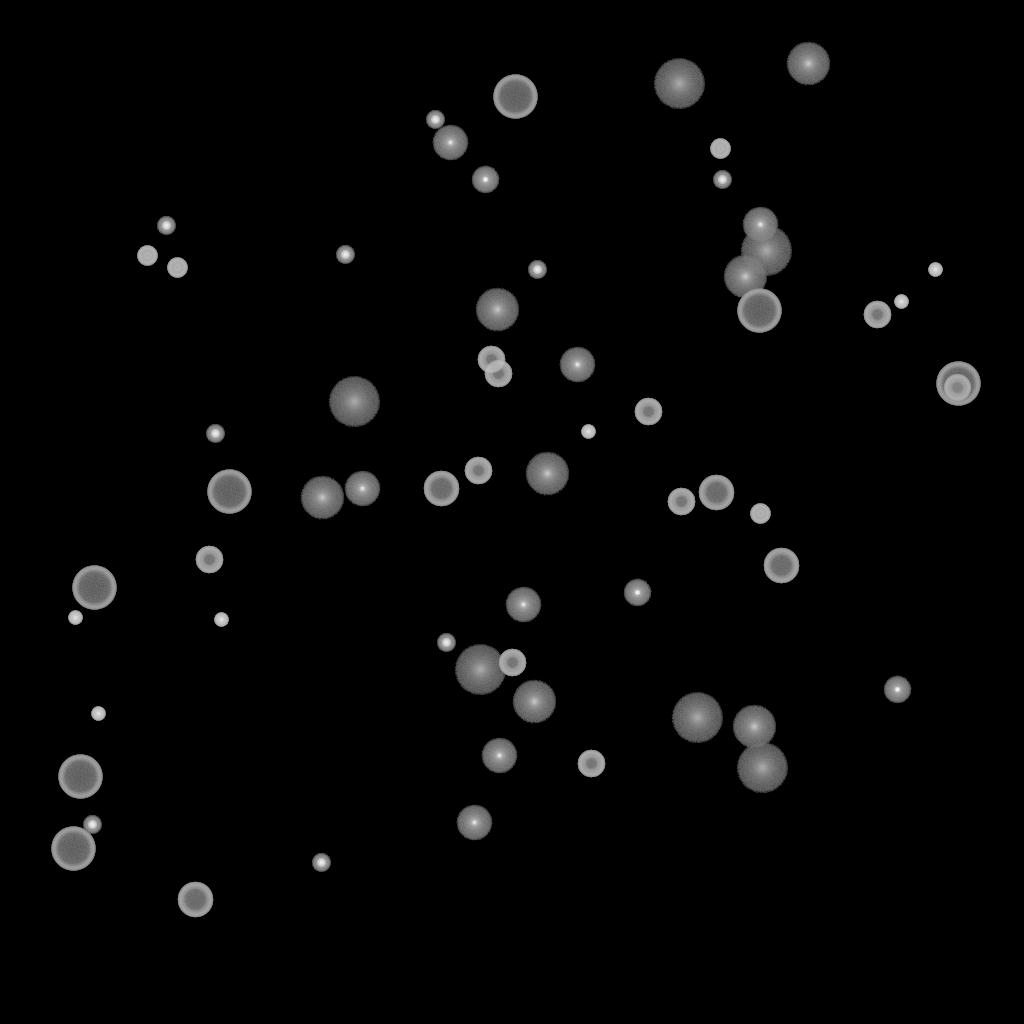depth:-10: (883, 676, 911, 704), (471, 166, 499, 194), (623, 579, 651, 607)
depth:-20: (426, 111, 444, 129), (157, 217, 175, 235), (312, 854, 330, 872), (336, 246, 354, 264), (206, 425, 224, 443), (83, 816, 101, 834), (528, 261, 546, 279), (713, 171, 731, 189), (437, 634, 455, 652)
depth:-30: (214, 613, 228, 627), (68, 611, 82, 625), (894, 295, 908, 309), (928, 263, 942, 277), (581, 425, 595, 439), (91, 707, 105, 721)
depth:-40: (137, 246, 157, 266), (167, 258, 187, 278), (710, 139, 730, 159), (750, 504, 770, 524)
depth:-50: (943, 374, 971, 402), (577, 750, 605, 778), (195, 546, 223, 574), (464, 457, 492, 485), (484, 360, 512, 388), (863, 301, 891, 329), (667, 488, 695, 516), (498, 649, 526, 677), (634, 398, 662, 426), (477, 346, 505, 374)
depth:-60: (698, 475, 734, 511), (423, 471, 459, 507), (177, 882, 213, 918), (763, 548, 799, 584)
depth:-70: (58, 755, 102, 799), (493, 75, 537, 119), (72, 566, 116, 610), (737, 289, 781, 333), (51, 827, 95, 871), (207, 470, 251, 514), (936, 362, 980, 406)
depth:0: (456, 805, 492, 841), (559, 347, 595, 383), (432, 125, 468, 161), (505, 587, 541, 623), (742, 207, 778, 243), (344, 471, 380, 507), (481, 738, 517, 774)
depth:10: (475, 288, 519, 332), (525, 452, 569, 496), (732, 705, 776, 749), (786, 42, 830, 86), (512, 680, 556, 724), (300, 476, 344, 520), (723, 255, 767, 299)
depth:20: (454, 645, 506, 695), (653, 59, 705, 109), (736, 743, 788, 793), (671, 693, 723, 743), (328, 377, 380, 427), (740, 226, 792, 276)
